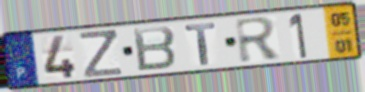1: (287, 11, 310, 60)
4: (43, 34, 78, 81)
B: (131, 24, 179, 73)
R: (232, 15, 284, 65)
T: (183, 21, 218, 67)
Z: (77, 28, 125, 80)
